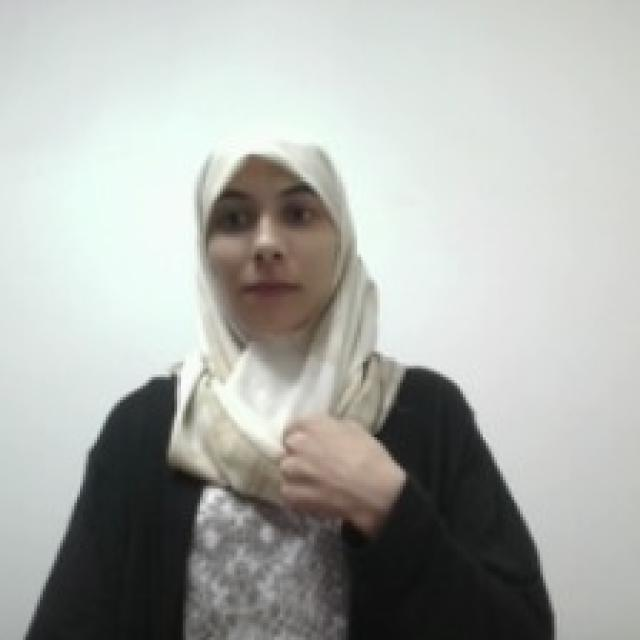me: (278, 406, 383, 520)
